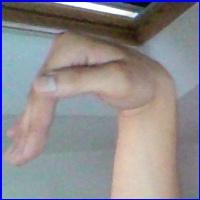del: (0, 14, 180, 176)
